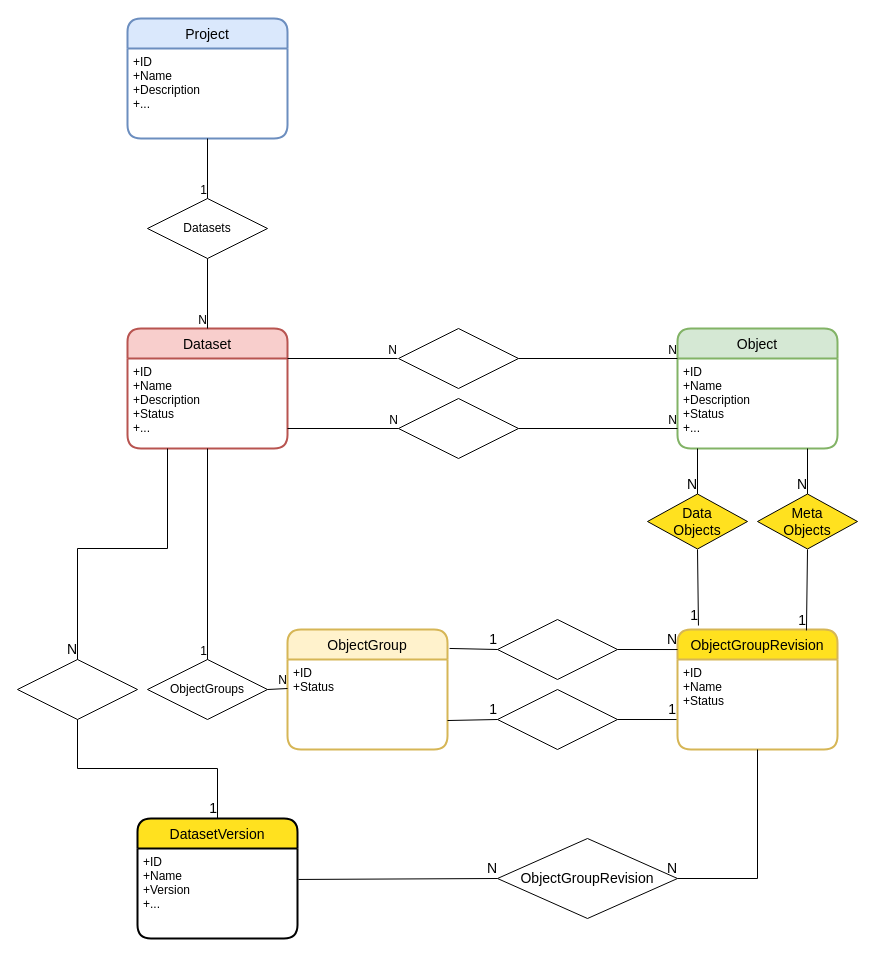
Some shapes in this 875 by 956 pixel diagram are drawn without their labels. The shapes that lost their labels are listed below. From the top down, each one's centre as x and y in pixels, then its label:
the point at 458,358: Objects
the point at 458,428: MetaObjects
the point at 557,649: Revisions
the point at 77,689: Versions
the point at 557,719: CurrentRevision
